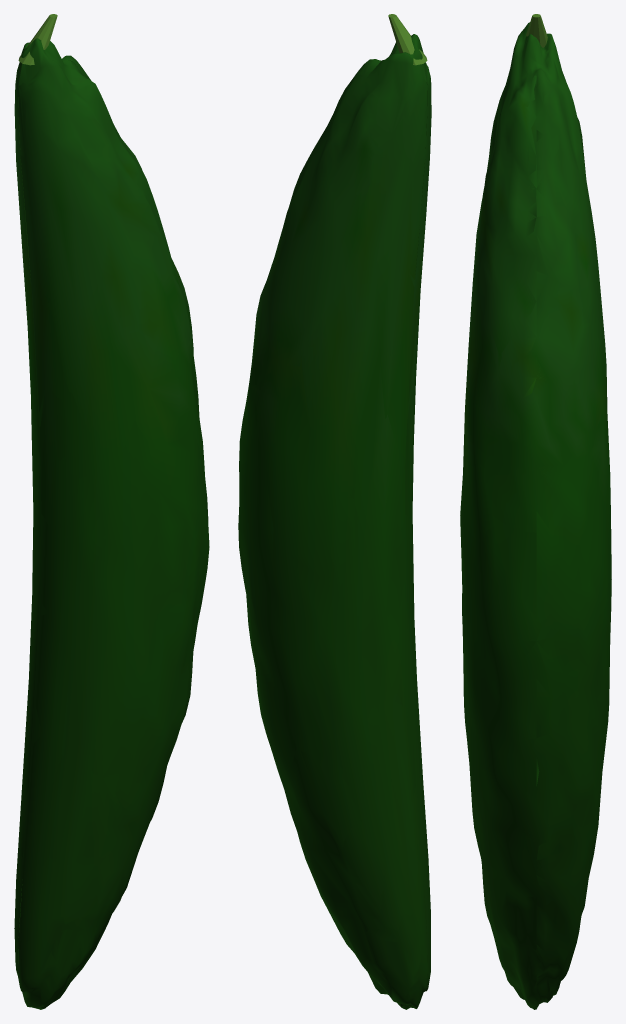
Rendered from haricot-vert.glb.
3 views of the same model, side by side, from view 1: azimuth 30°, elevation 25°; view 2: azimuth 150°, elevation 25°; view 3: azimuth 270°, elevation 25° (orthographic).
Visible parts, largest first — view 1: entier_peau, moitie_B_peau, moitie_A_peau, entier_extra0; view 2: entier_peau, moitie_A_peau, moitie_B_peau, entier_extra0; view 3: entier_peau, moitie_A_peau, moitie_B_peau, entier_extra0.
Boxes of the visible parts, x1,y1,x2,y2 form: entier_peau: [14, 38, 209, 1009]; moitie_B_peau: [18, 38, 208, 1008]; moitie_A_peau: [14, 43, 85, 1006]; entier_extra0: [18, 14, 57, 65]; entier_peau: [238, 34, 431, 1009]; moitie_A_peau: [238, 42, 426, 1009]; moitie_B_peau: [389, 34, 431, 1007]; entier_extra0: [388, 14, 427, 65]; entier_peau: [460, 22, 611, 1009]; moitie_A_peau: [536, 34, 611, 1008]; moitie_B_peau: [460, 22, 536, 1008]; entier_extra0: [526, 14, 547, 47].
Bounding box in the file's own units: 0.3953 × 2.06 × 0.2829.
